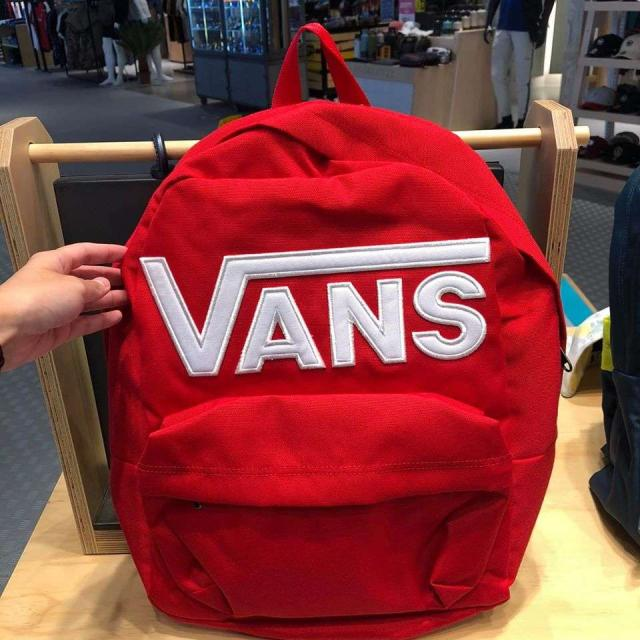Handbag: (99, 99, 568, 640)
